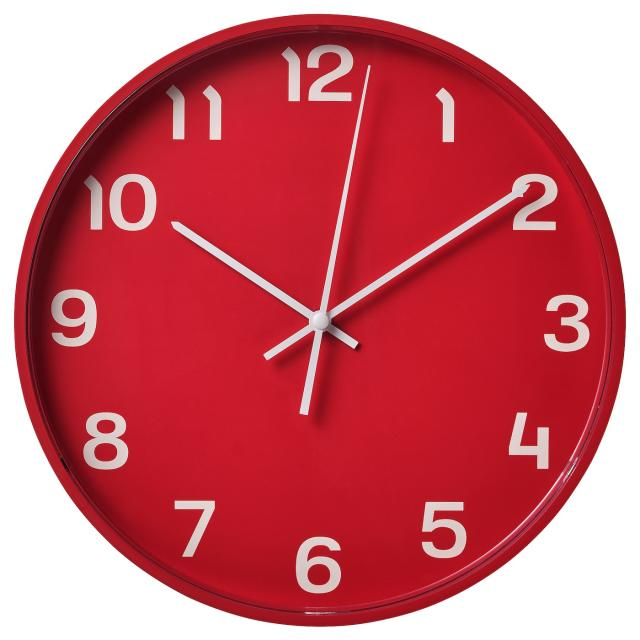clock: (37, 27, 484, 624)
